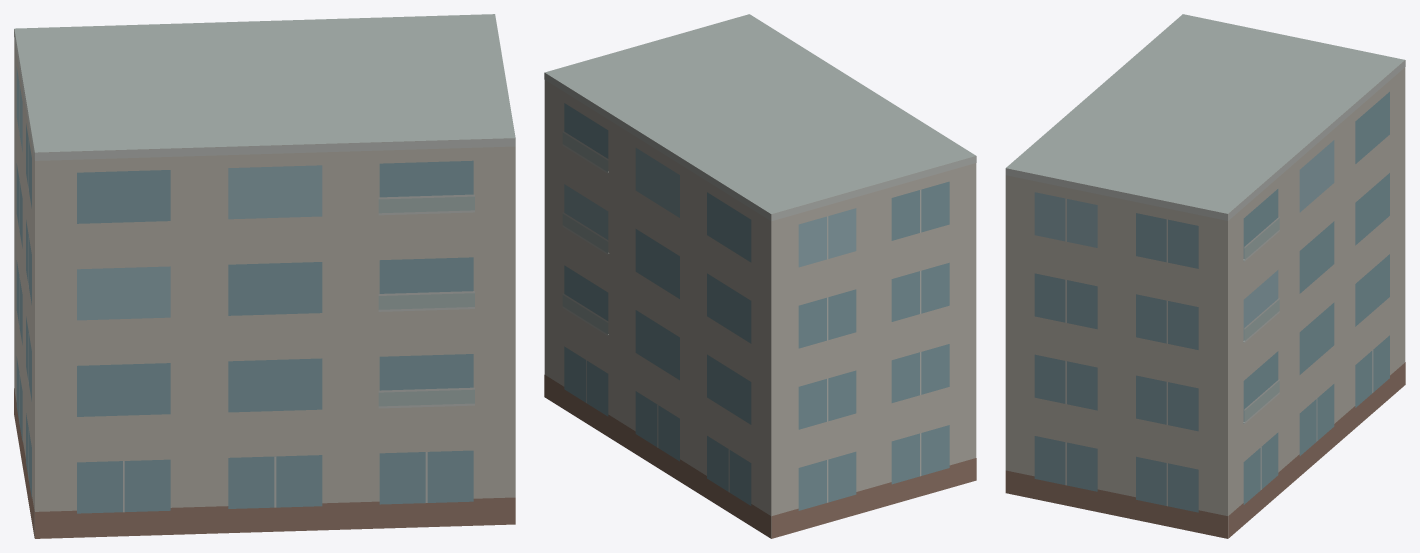
Rendered from survey-upis-32960459.glb.
3 renders of one model, left to right at view 1: azimuth 30°, elevation 25°; view 2: azimuth 150°, elevation 25°; view 3: azimuth 270°, elevation 25°, orthographic. The views are drawn at different scales.
Parts seen in each view (by area): view 1: survey-upis-32960459.tmp; view 2: survey-upis-32960459.tmp; view 3: survey-upis-32960459.tmp.
Boxes of the visible parts, x1,y1,x2,y2 form: survey-upis-32960459.tmp: (14,14,515,538); survey-upis-32960459.tmp: (544,14,976,538); survey-upis-32960459.tmp: (1005,14,1405,538).
Size of the model in its own units: 14.79 by 11.2 by 12.5.
